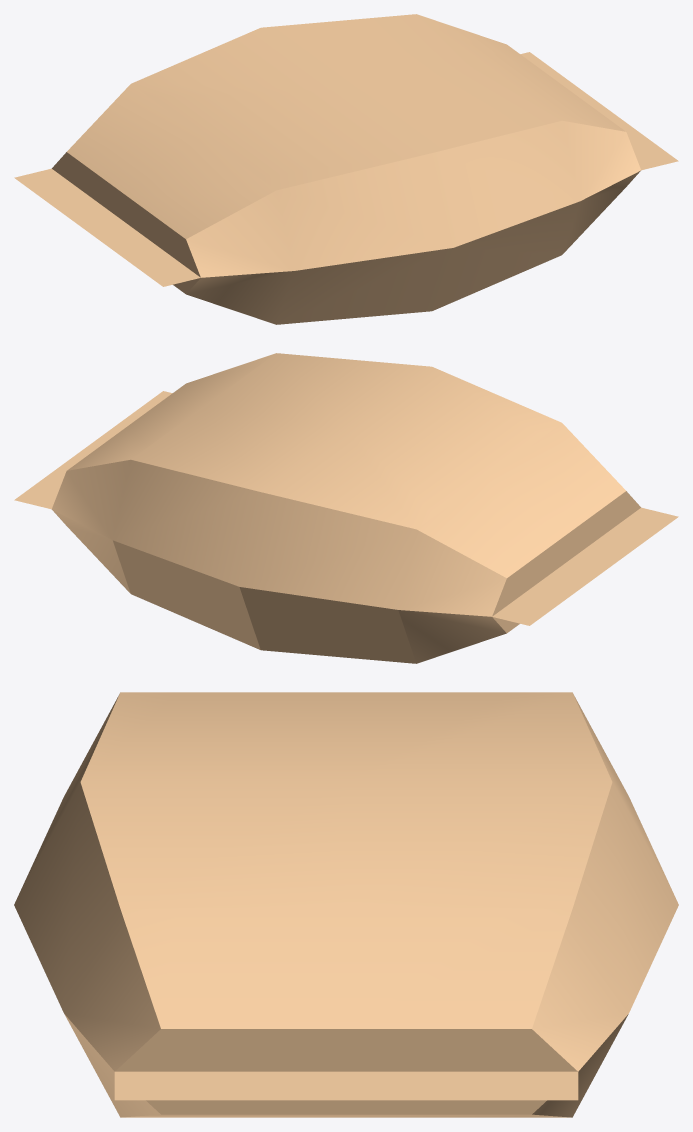
File: bagFlat.GLB
The picture shows the model from 3 angles, top to bottom: view 1: azimuth 30°, elevation 25°; view 2: azimuth 150°, elevation 25°; view 3: azimuth 270°, elevation 25°; orthographic projection. The views are drawn at different scales.
Visible parts, largest first — view 1: bagFlat; view 2: bagFlat; view 3: bagFlat.
Boxes of the visible parts, <box> form: bagFlat: <box>14,14,678,324</box>; bagFlat: <box>14,353,678,663</box>; bagFlat: <box>14,692,678,1117</box>.
Size of the model in its own units: 0.65 by 0.1905 by 0.4675.
